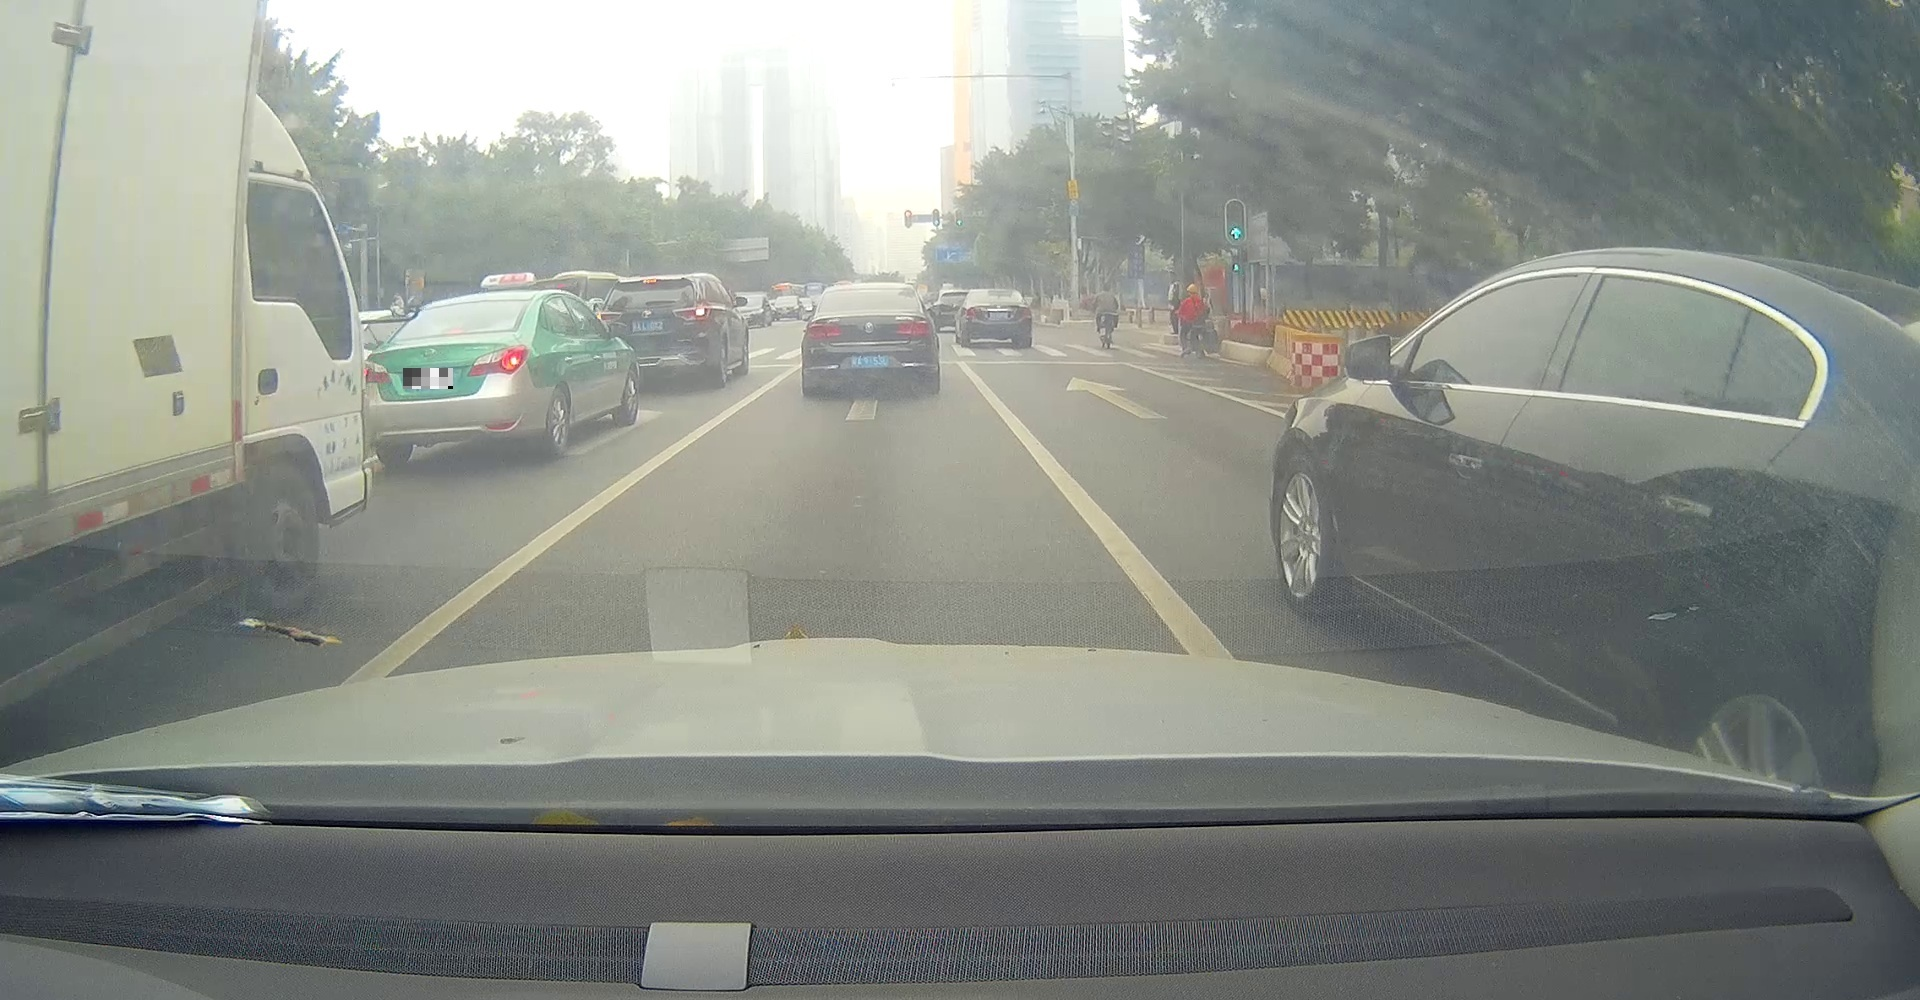L_light: (363, 360, 392, 385), (805, 322, 843, 336), (597, 311, 623, 326), (965, 308, 977, 317)
R_light: (469, 345, 530, 376), (672, 305, 711, 321), (895, 320, 935, 335), (1022, 308, 1031, 316)
T_light: (444, 329, 463, 334), (643, 278, 657, 284), (862, 289, 880, 292), (992, 291, 1002, 293)
day-brake: (361, 291, 535, 466), (596, 274, 716, 388)
day-no: (800, 280, 940, 396), (963, 289, 1032, 346)
plate_1: (403, 368, 453, 390)
